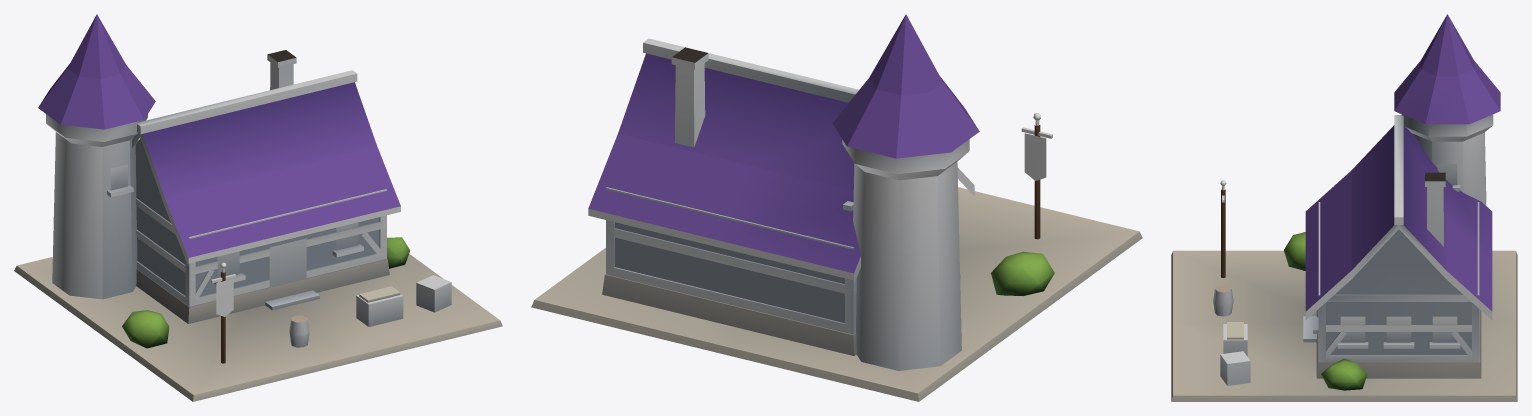
The model's file is academy_t2.glb.
3 renders of one model, left to right at view 1: azimuth 30°, elevation 25°; view 2: azimuth 150°, elevation 25°; view 3: azimuth 270°, elevation 25°, orthographic. The views are drawn at different scales.
Visible parts, largest first — view 1: academy_t2; view 2: academy_t2; view 3: academy_t2.
Part boxes in pixels (x1,y1,x2,y2): academy_t2: (14,14,502,401); academy_t2: (531,14,1142,401); academy_t2: (1171,14,1517,401).
Bounding box in the file's own units: 2.87 × 2.4 × 2.86.
